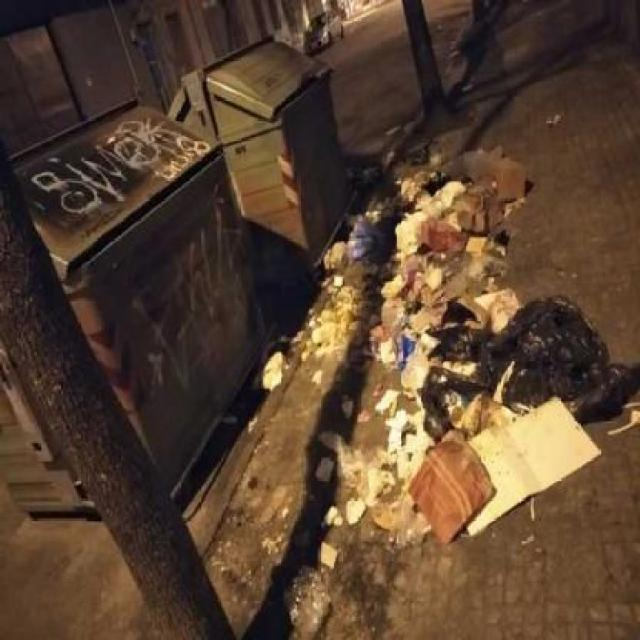garbage: (413, 182, 626, 575), (311, 163, 456, 582), (309, 162, 454, 581), (407, 92, 526, 253)
